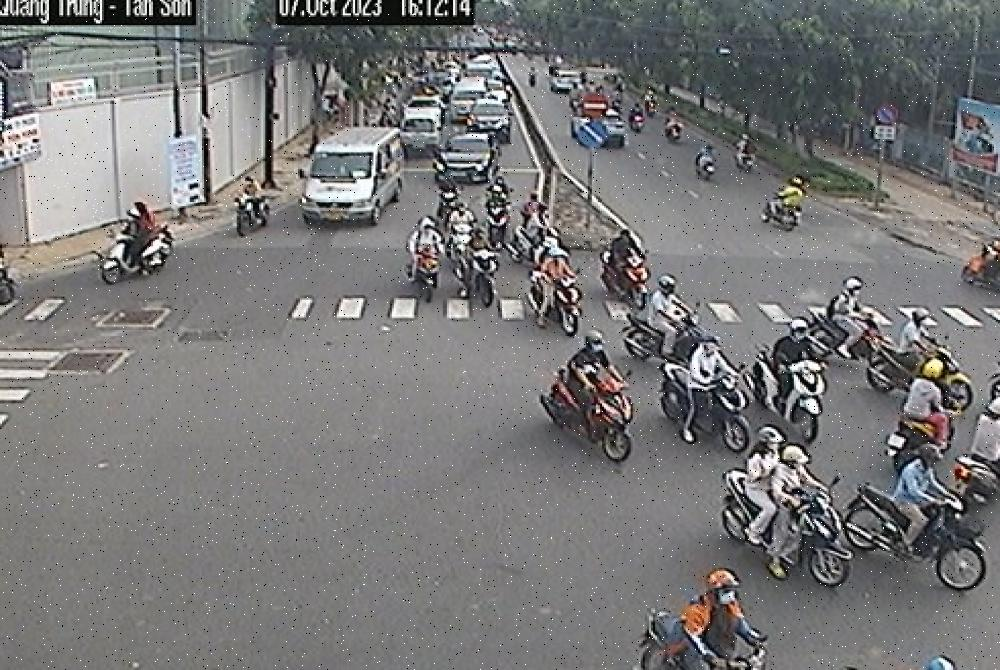car: (301, 126, 402, 229), (437, 133, 499, 185)
